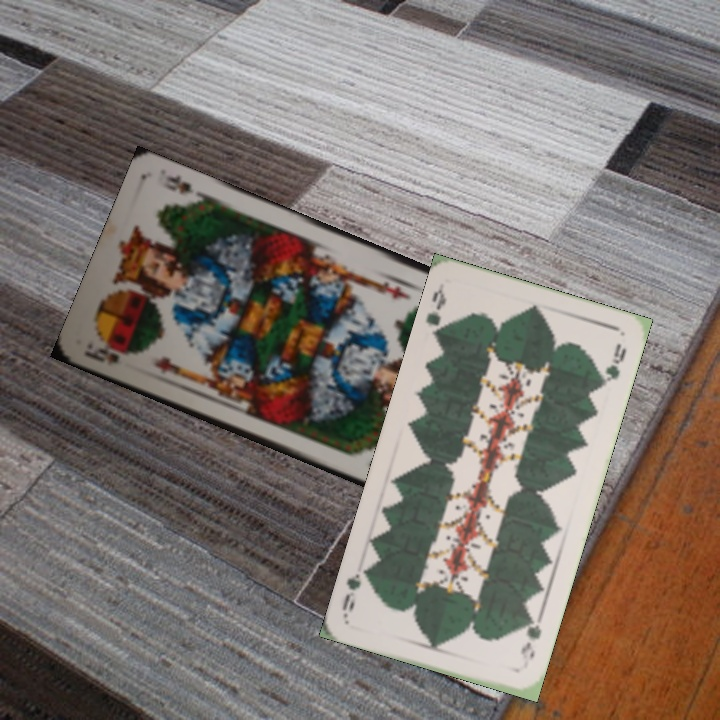G9: (422, 281, 449, 342), (516, 612, 544, 664)
SK: (79, 341, 131, 369)
